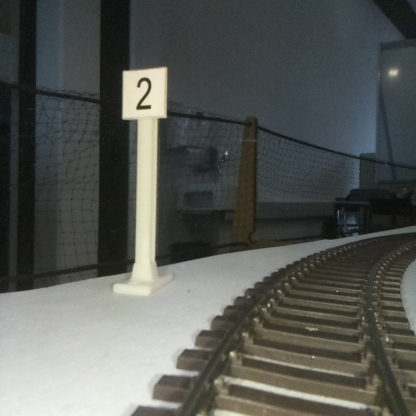white-info-2: (121, 67, 166, 292)
